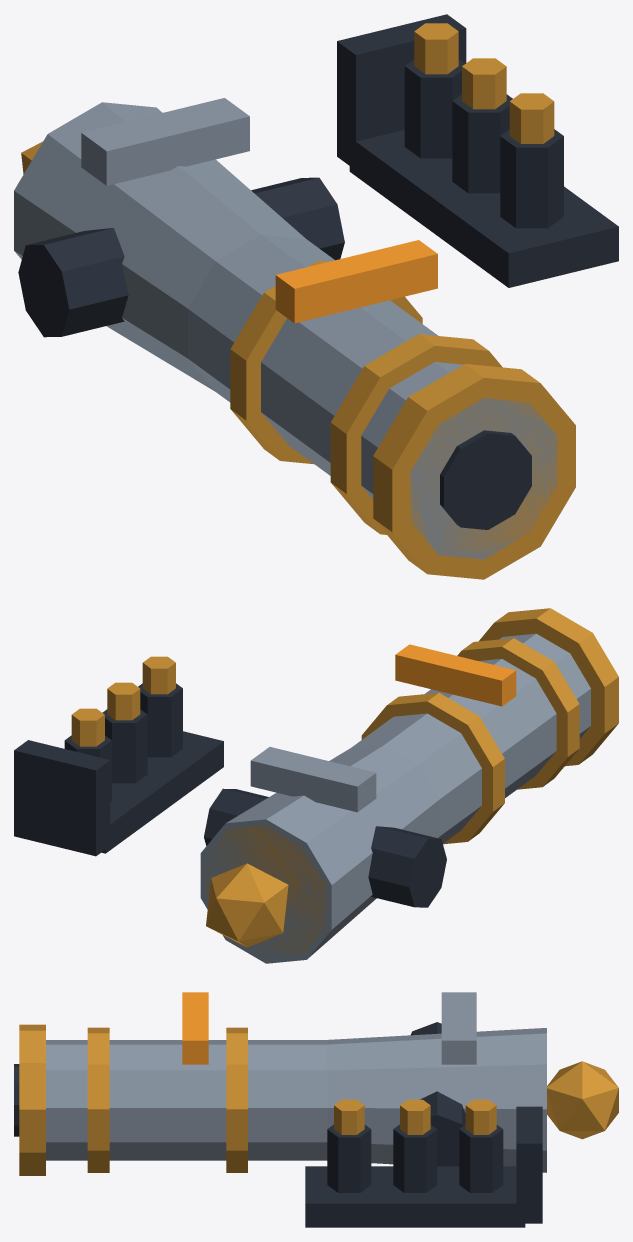
The model's file is CannonA.obj.
The picture shows the model from 3 angles, top to bottom: view 1: azimuth 30°, elevation 25°; view 2: azimuth 150°, elevation 25°; view 3: azimuth 270°, elevation 25°; orthographic projection. The views are drawn at different scales.
Visible parts, largest first — view 1: CannonA; view 2: CannonA; view 3: CannonA.
Part boxes in pixels (x1,y1,x2,y2): CannonA: (14, 14, 618, 579); CannonA: (14, 608, 618, 963); CannonA: (14, 992, 618, 1227).
Size of the model in its own units: 0.87 by 0.405 by 1.38.
